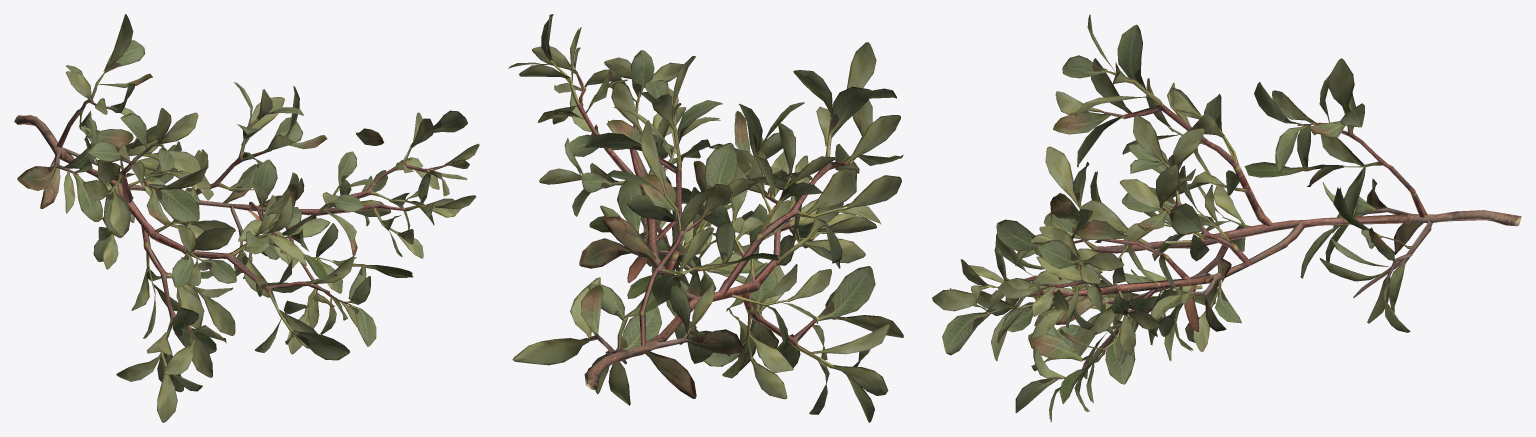
File: new_shrub_5.obj
The picture shows the model from 3 angles, left to right: view 1: azimuth 30°, elevation 25°; view 2: azimuth 150°, elevation 25°; view 3: azimuth 270°, elevation 25°; orthographic projection. The views are drawn at different scales.
Parts seen in each view (by area): view 1: shrub_04_d_LOD1.001, shrub_04_d_LOD2.001; view 2: shrub_04_d_LOD2.001, shrub_04_d_LOD1.001; view 3: shrub_04_d_LOD1.001, shrub_04_d_LOD2.001.
Part boxes in pixels (bbox=[...]): shrub_04_d_LOD1.001: bbox=[14, 18, 478, 422]; shrub_04_d_LOD2.001: bbox=[14, 14, 479, 421]; shrub_04_d_LOD2.001: bbox=[510, 15, 903, 422]; shrub_04_d_LOD1.001: bbox=[508, 14, 902, 420]; shrub_04_d_LOD1.001: bbox=[933, 14, 1520, 422]; shrub_04_d_LOD2.001: bbox=[932, 15, 1521, 421].
Bounding box in the file's own units: 0.2181 × 0.1869 × 0.2736.
Materials: 1 (1 with a texture image).
